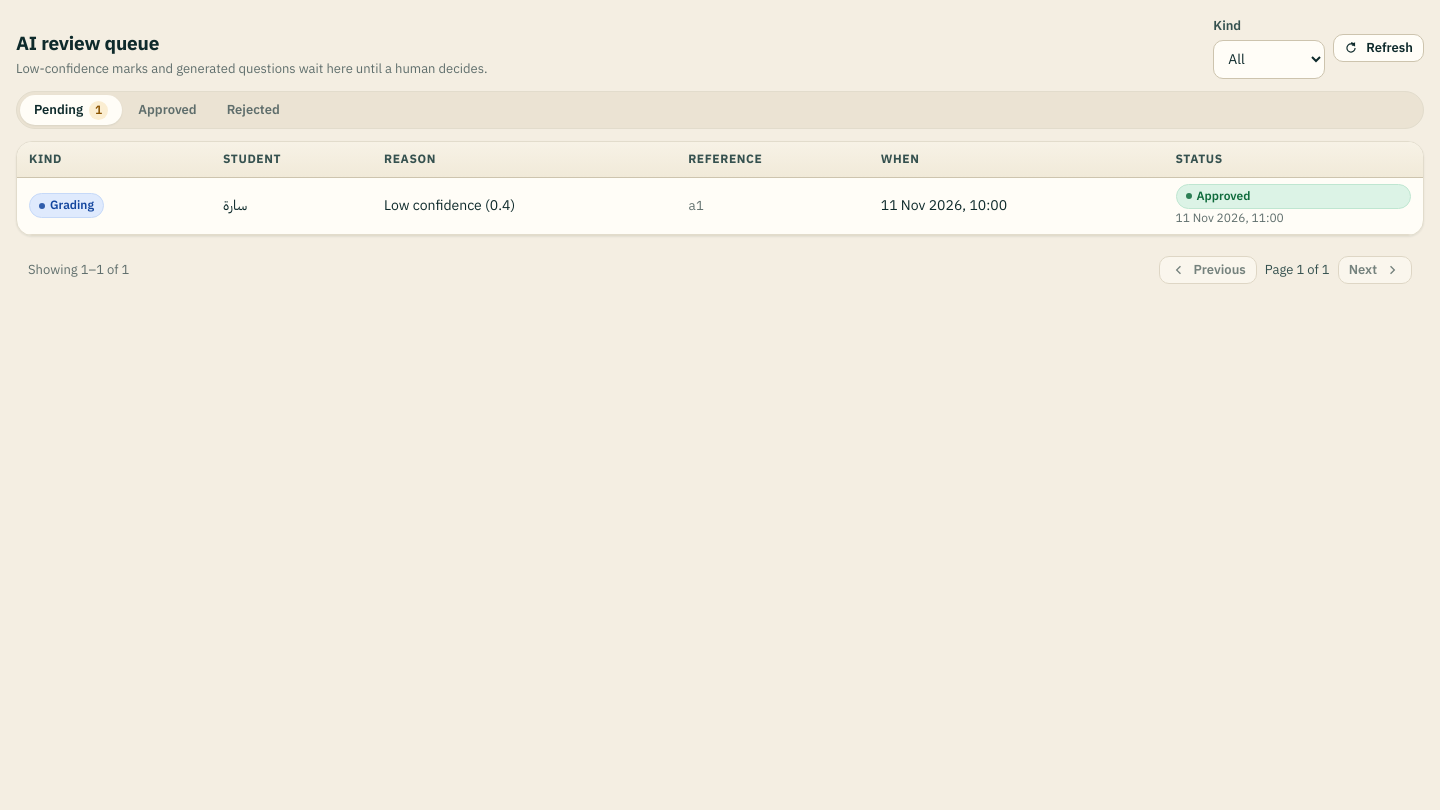
it: AiReviewsPage › shows a resolved review read-only with its resolution note
Click the tab "Approved" at (168, 110), box top-left (124, 95), bottom-right (211, 125)
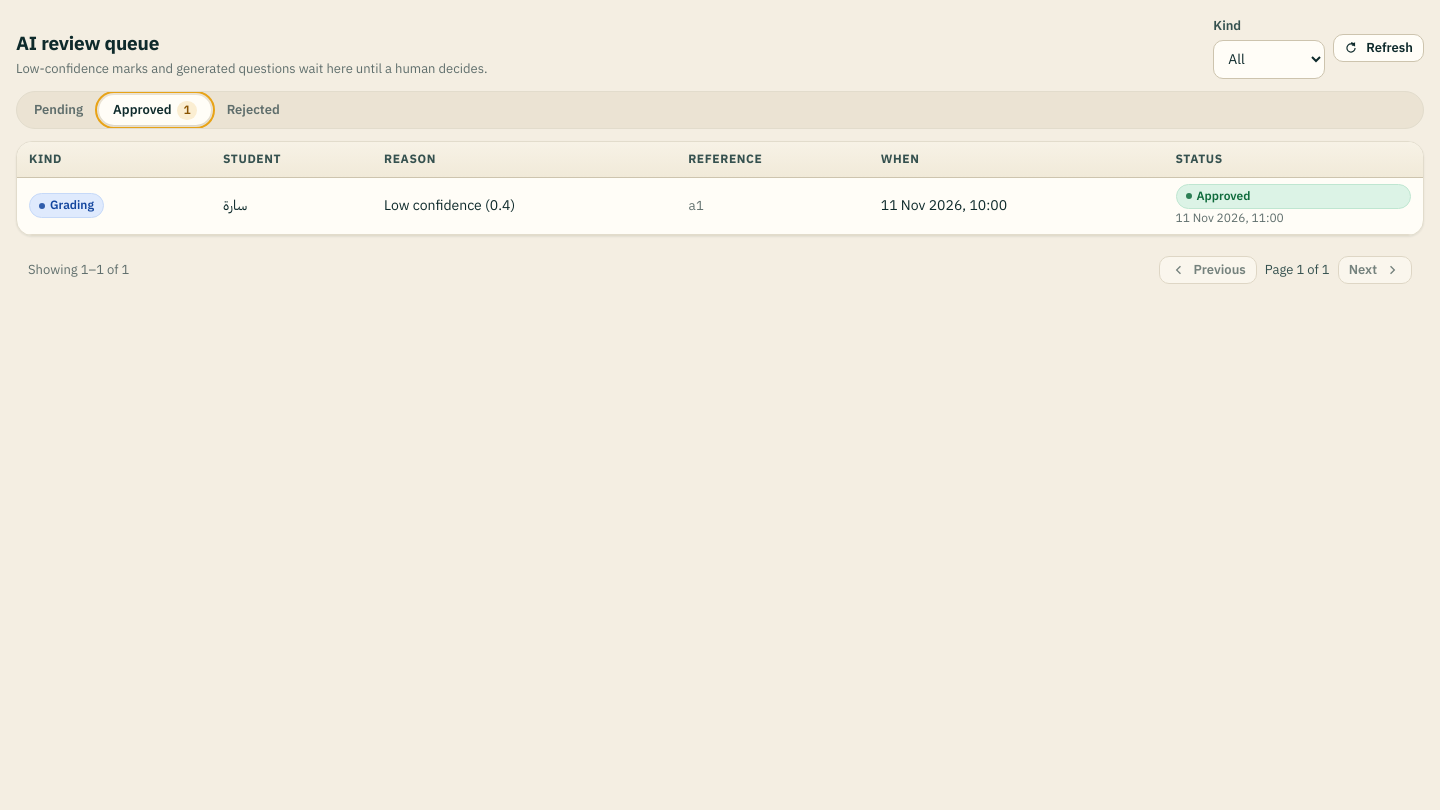
Click the text "Low confidence (0.4)" at (450, 205), box top-left (384, 195), bottom-right (515, 216)
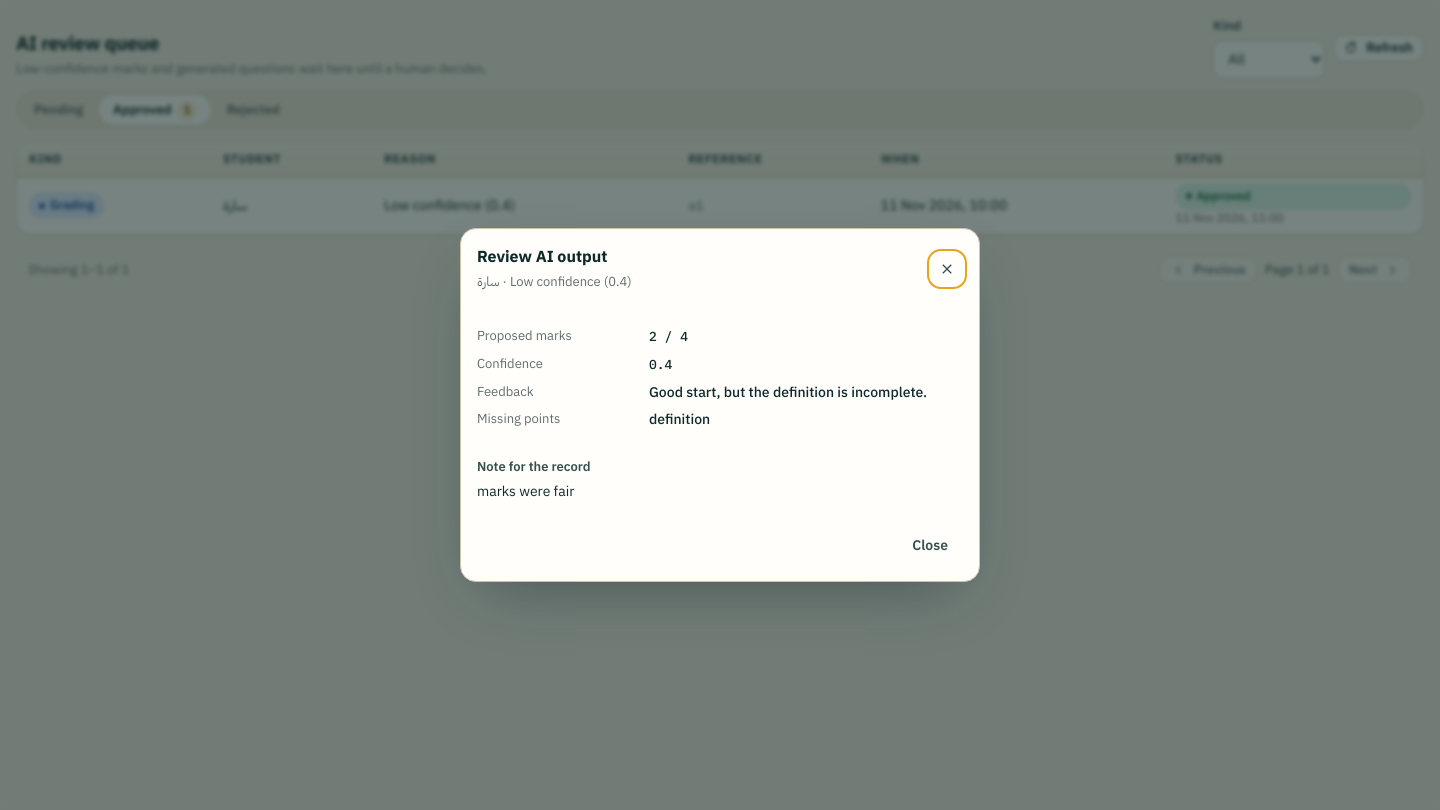
Result: the text "marks were fair" is shown at top-left (477, 481), bottom-right (574, 502)
Result: the button named "Close" is shown at top-left (931, 253), bottom-right (963, 285)
